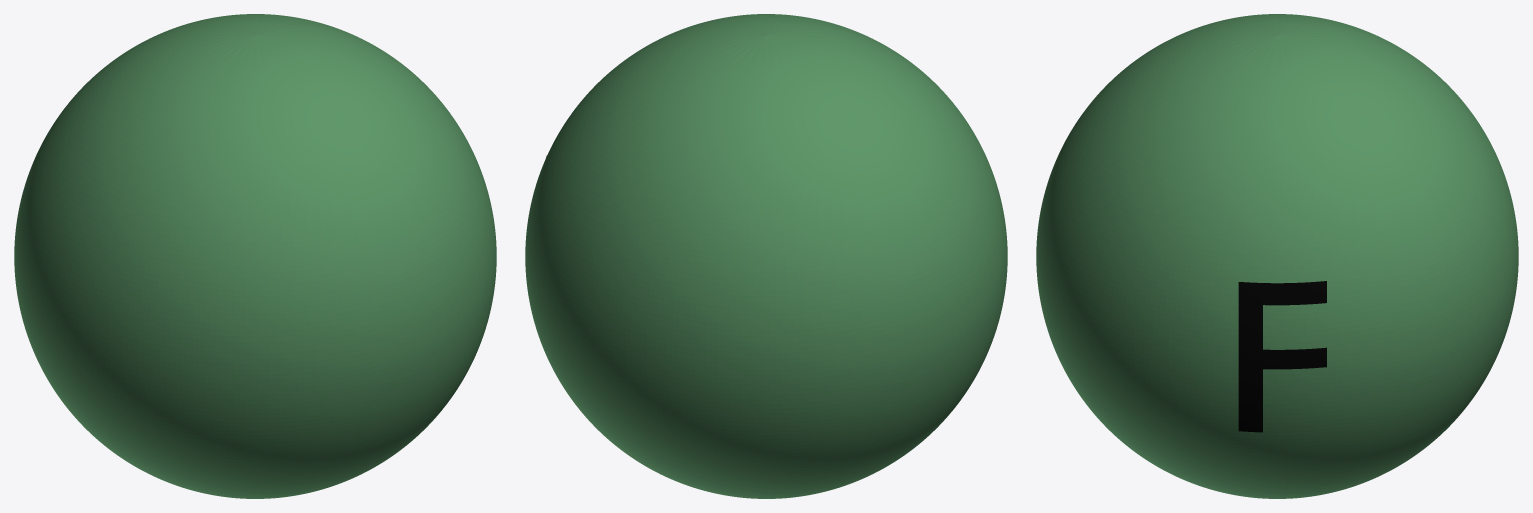
File: Fluorine (F).fbx
The picture shows the model from 3 angles, left to right: view 1: azimuth 30°, elevation 25°; view 2: azimuth 150°, elevation 25°; view 3: azimuth 270°, elevation 25°; orthographic projection.
Parts seen in each view (by area): view 1: Sphere.007; view 2: Sphere.007; view 3: Sphere.007, Text.007.
Part boxes in pixels (x1,y1,x2,y2): Sphere.007: (14, 14, 496, 498); Sphere.007: (525, 14, 1007, 498); Sphere.007: (1036, 14, 1518, 498); Text.007: (1238, 281, 1326, 432).
Bounding box in the file's own units: 198 × 200 × 197.
